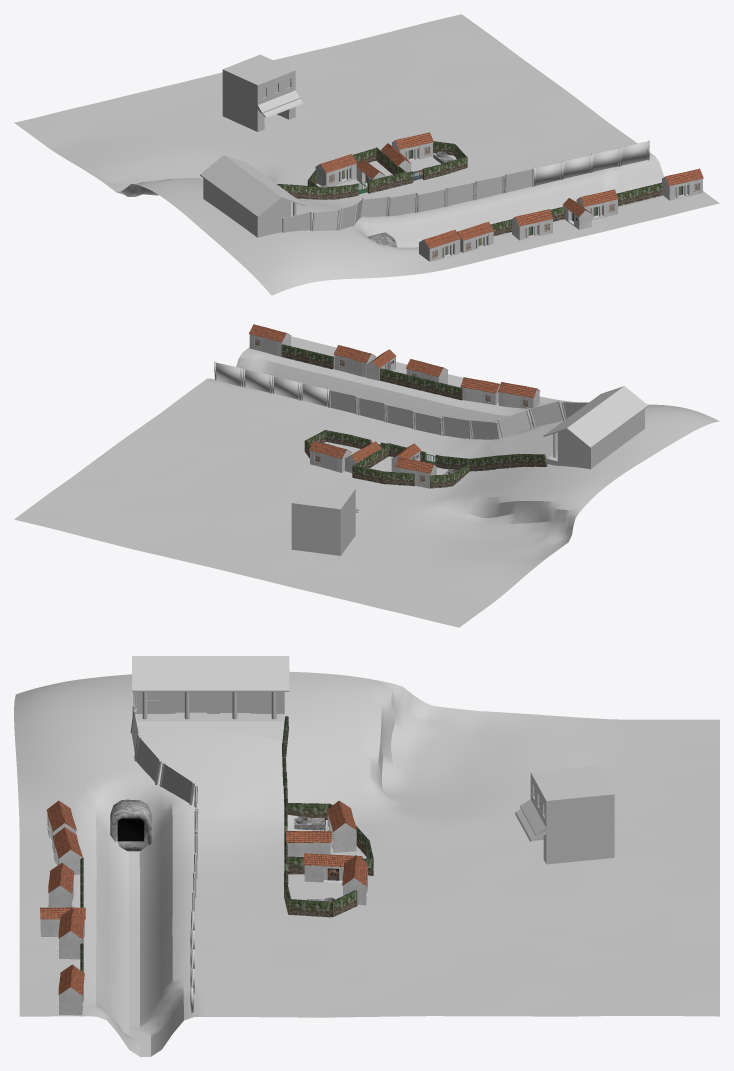
The model's file is environment.fbx.
3 renders of one model, top to bottom at view 1: azimuth 30°, elevation 25°; view 2: azimuth 150°, elevation 25°; view 3: azimuth 270°, elevation 25°, orthographic. The views are drawn at different scales.
Visible parts, largest first — view 1: Plane, House2, Cube.002, House1, House1.006, House1.004, House1.002, House1.005, House1.001, House1.003, Kitchen1.002, Fence.013 (+11 smaller); view 2: Plane, House2, Cube.002, House1.002, House1.006, House1.001, House1.005, House1.003, House1, House1.004, Fence.002, Fence.003 (+11 smaller); view 3: Plane, House2, Cube.002, Cong, House1, Kitchen1.001, House1.006, House1.005, Kitchen1, House1.004, House1.003, House1.001 (+5 smaller).
Boxes of the visible parts, bbox=[...] form: Plane: bbox=[14, 14, 719, 295]; House2: bbox=[200, 155, 305, 237]; Cube.002: bbox=[222, 54, 303, 131]; House1: bbox=[315, 154, 356, 186]; House1.006: bbox=[662, 168, 703, 200]; House1.004: bbox=[512, 209, 553, 240]; House1.002: bbox=[418, 229, 460, 261]; House1.005: bbox=[576, 189, 618, 219]; House1.001: bbox=[392, 132, 433, 161]; House1.003: bbox=[457, 221, 493, 252]; Kitchen1.002: bbox=[563, 198, 591, 229]; Fence.013: bbox=[620, 140, 649, 165]; Plane: bbox=[14, 336, 719, 627]; House2: bbox=[543, 386, 648, 469]; Cube.002: bbox=[291, 482, 359, 555]; House1.002: bbox=[498, 382, 539, 408]; House1.006: bbox=[249, 324, 290, 356]; House1.001: bbox=[309, 440, 351, 472]; House1.005: bbox=[333, 345, 376, 377]; House1.003: bbox=[460, 377, 500, 404]; House1: bbox=[395, 457, 436, 488]; House1.004: bbox=[406, 359, 447, 384]; Fence.002: bbox=[528, 400, 564, 427]; Fence.003: bbox=[497, 409, 532, 437]; Plane: bbox=[14, 671, 719, 1056]; House2: bbox=[132, 656, 289, 740]; Cube.002: bbox=[515, 765, 614, 864]; Cong: bbox=[110, 799, 151, 851]; House1: bbox=[327, 800, 356, 852]; Kitchen1.001: bbox=[303, 853, 362, 882]; House1.006: bbox=[58, 964, 84, 1016]; House1.005: bbox=[58, 908, 84, 959]; Kitchen1: bbox=[285, 831, 331, 856]; House1.004: bbox=[48, 863, 74, 907]; House1.003: bbox=[52, 827, 82, 874]; House1.001: bbox=[342, 855, 368, 905].
Size of the model in its own units: 2020 by 436 by 2017.
